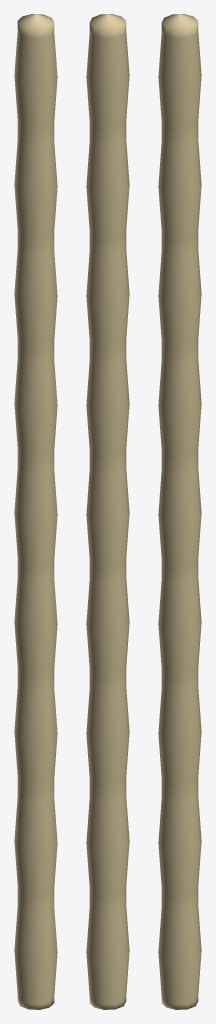
File: staff.glb
3 renders of one model, left to right at view 1: azimuth 30°, elevation 25°; view 2: azimuth 150°, elevation 25°; view 3: azimuth 330°, elevation 25°, orthographic.
Parts seen in each view (by area): view 1: W-staff; view 2: W-staff; view 3: W-staff.
Part boxes in pixels (x1,y1,x2,y2): W-staff: (14,14,57,1009); W-staff: (86,14,129,1009); W-staff: (158,14,201,1009).
Size of the model in its own units: 0.052 by 1.31 by 0.0495.
